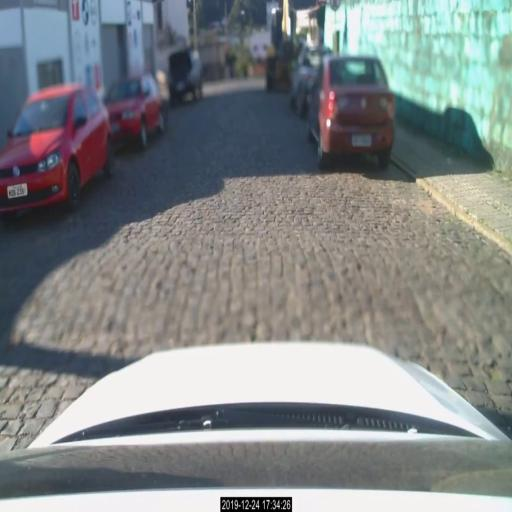Pothole: (477, 344, 511, 394), (413, 186, 443, 223)
